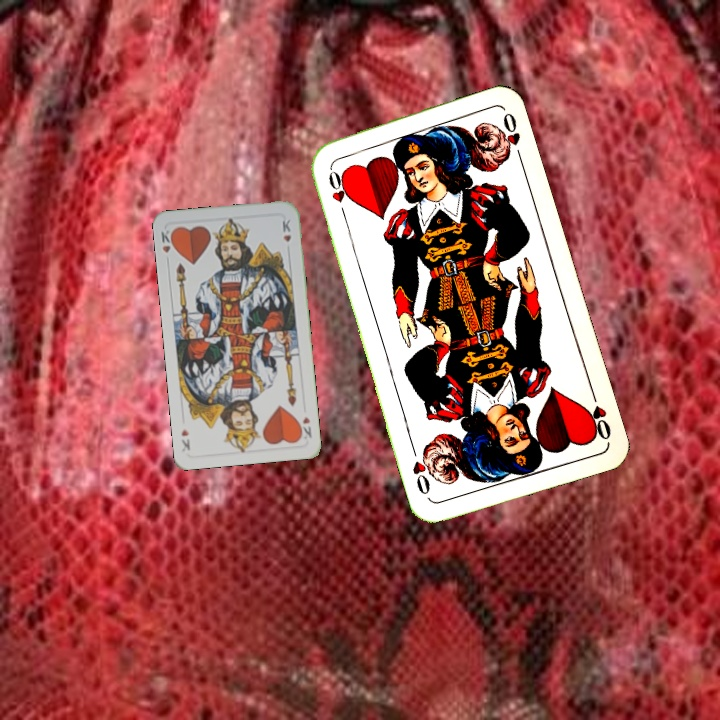HK: (157, 225, 177, 266), (295, 412, 314, 441)
HO: (581, 386, 614, 443), (324, 163, 349, 221)
